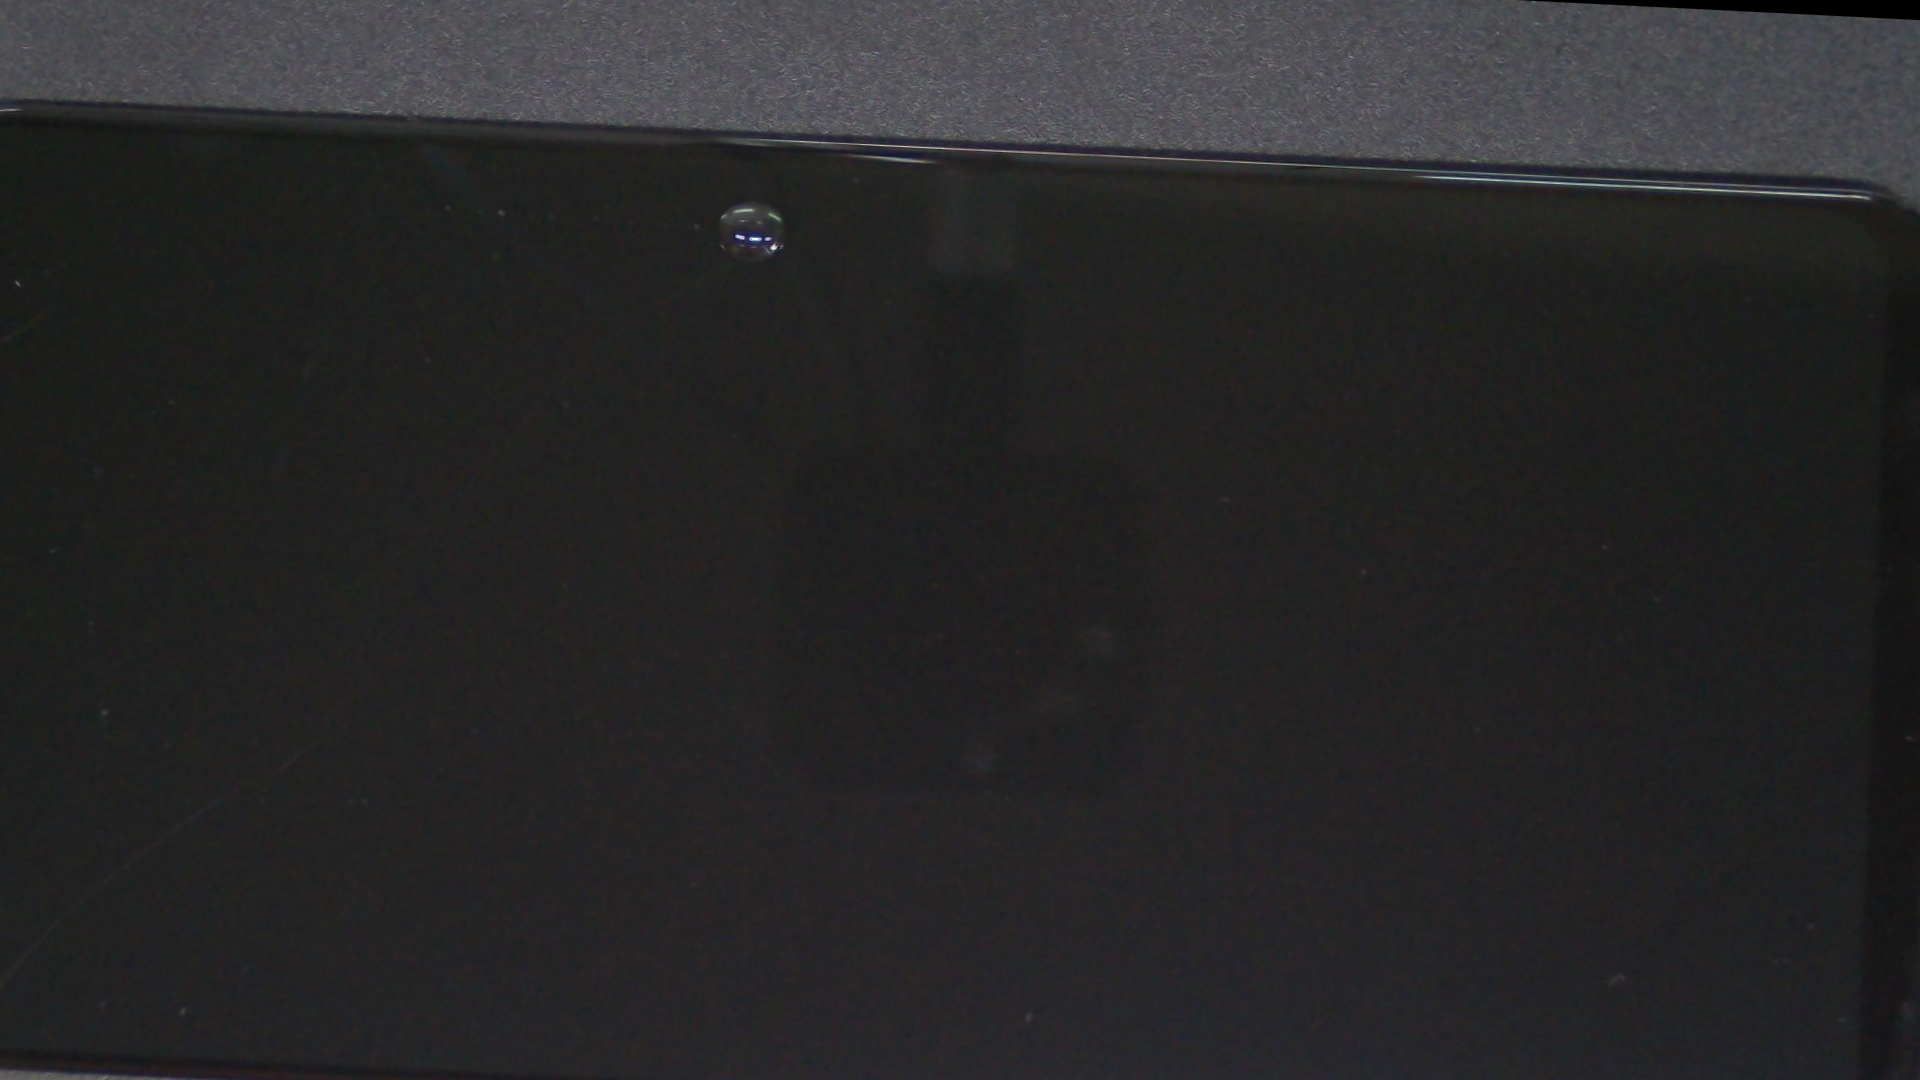oil: (297, 58, 1191, 343)
